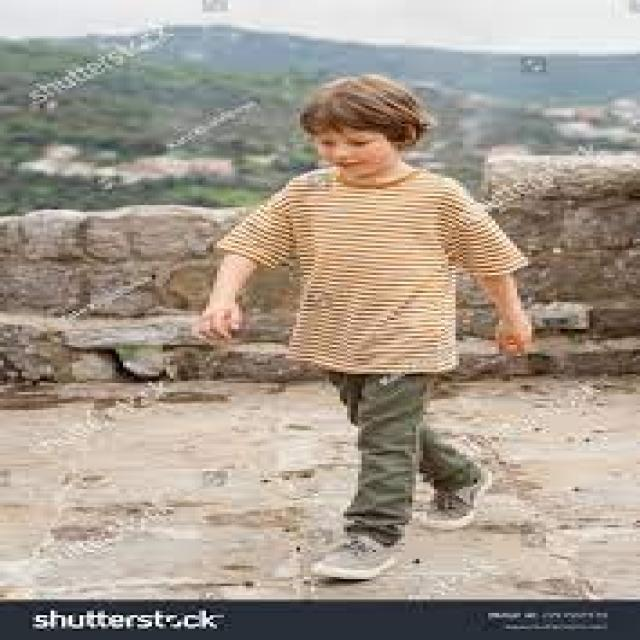Person: (190, 78, 534, 579)
